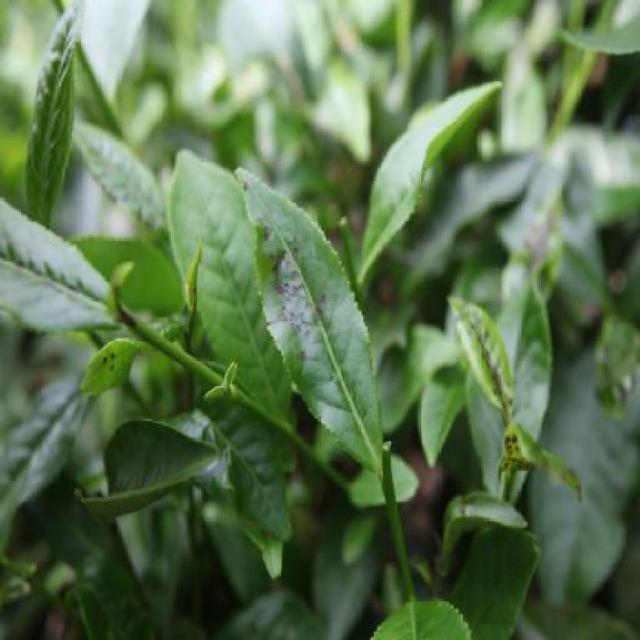Tea Mosquito bug infested leaf: (235, 157, 392, 466), (446, 283, 579, 489)
